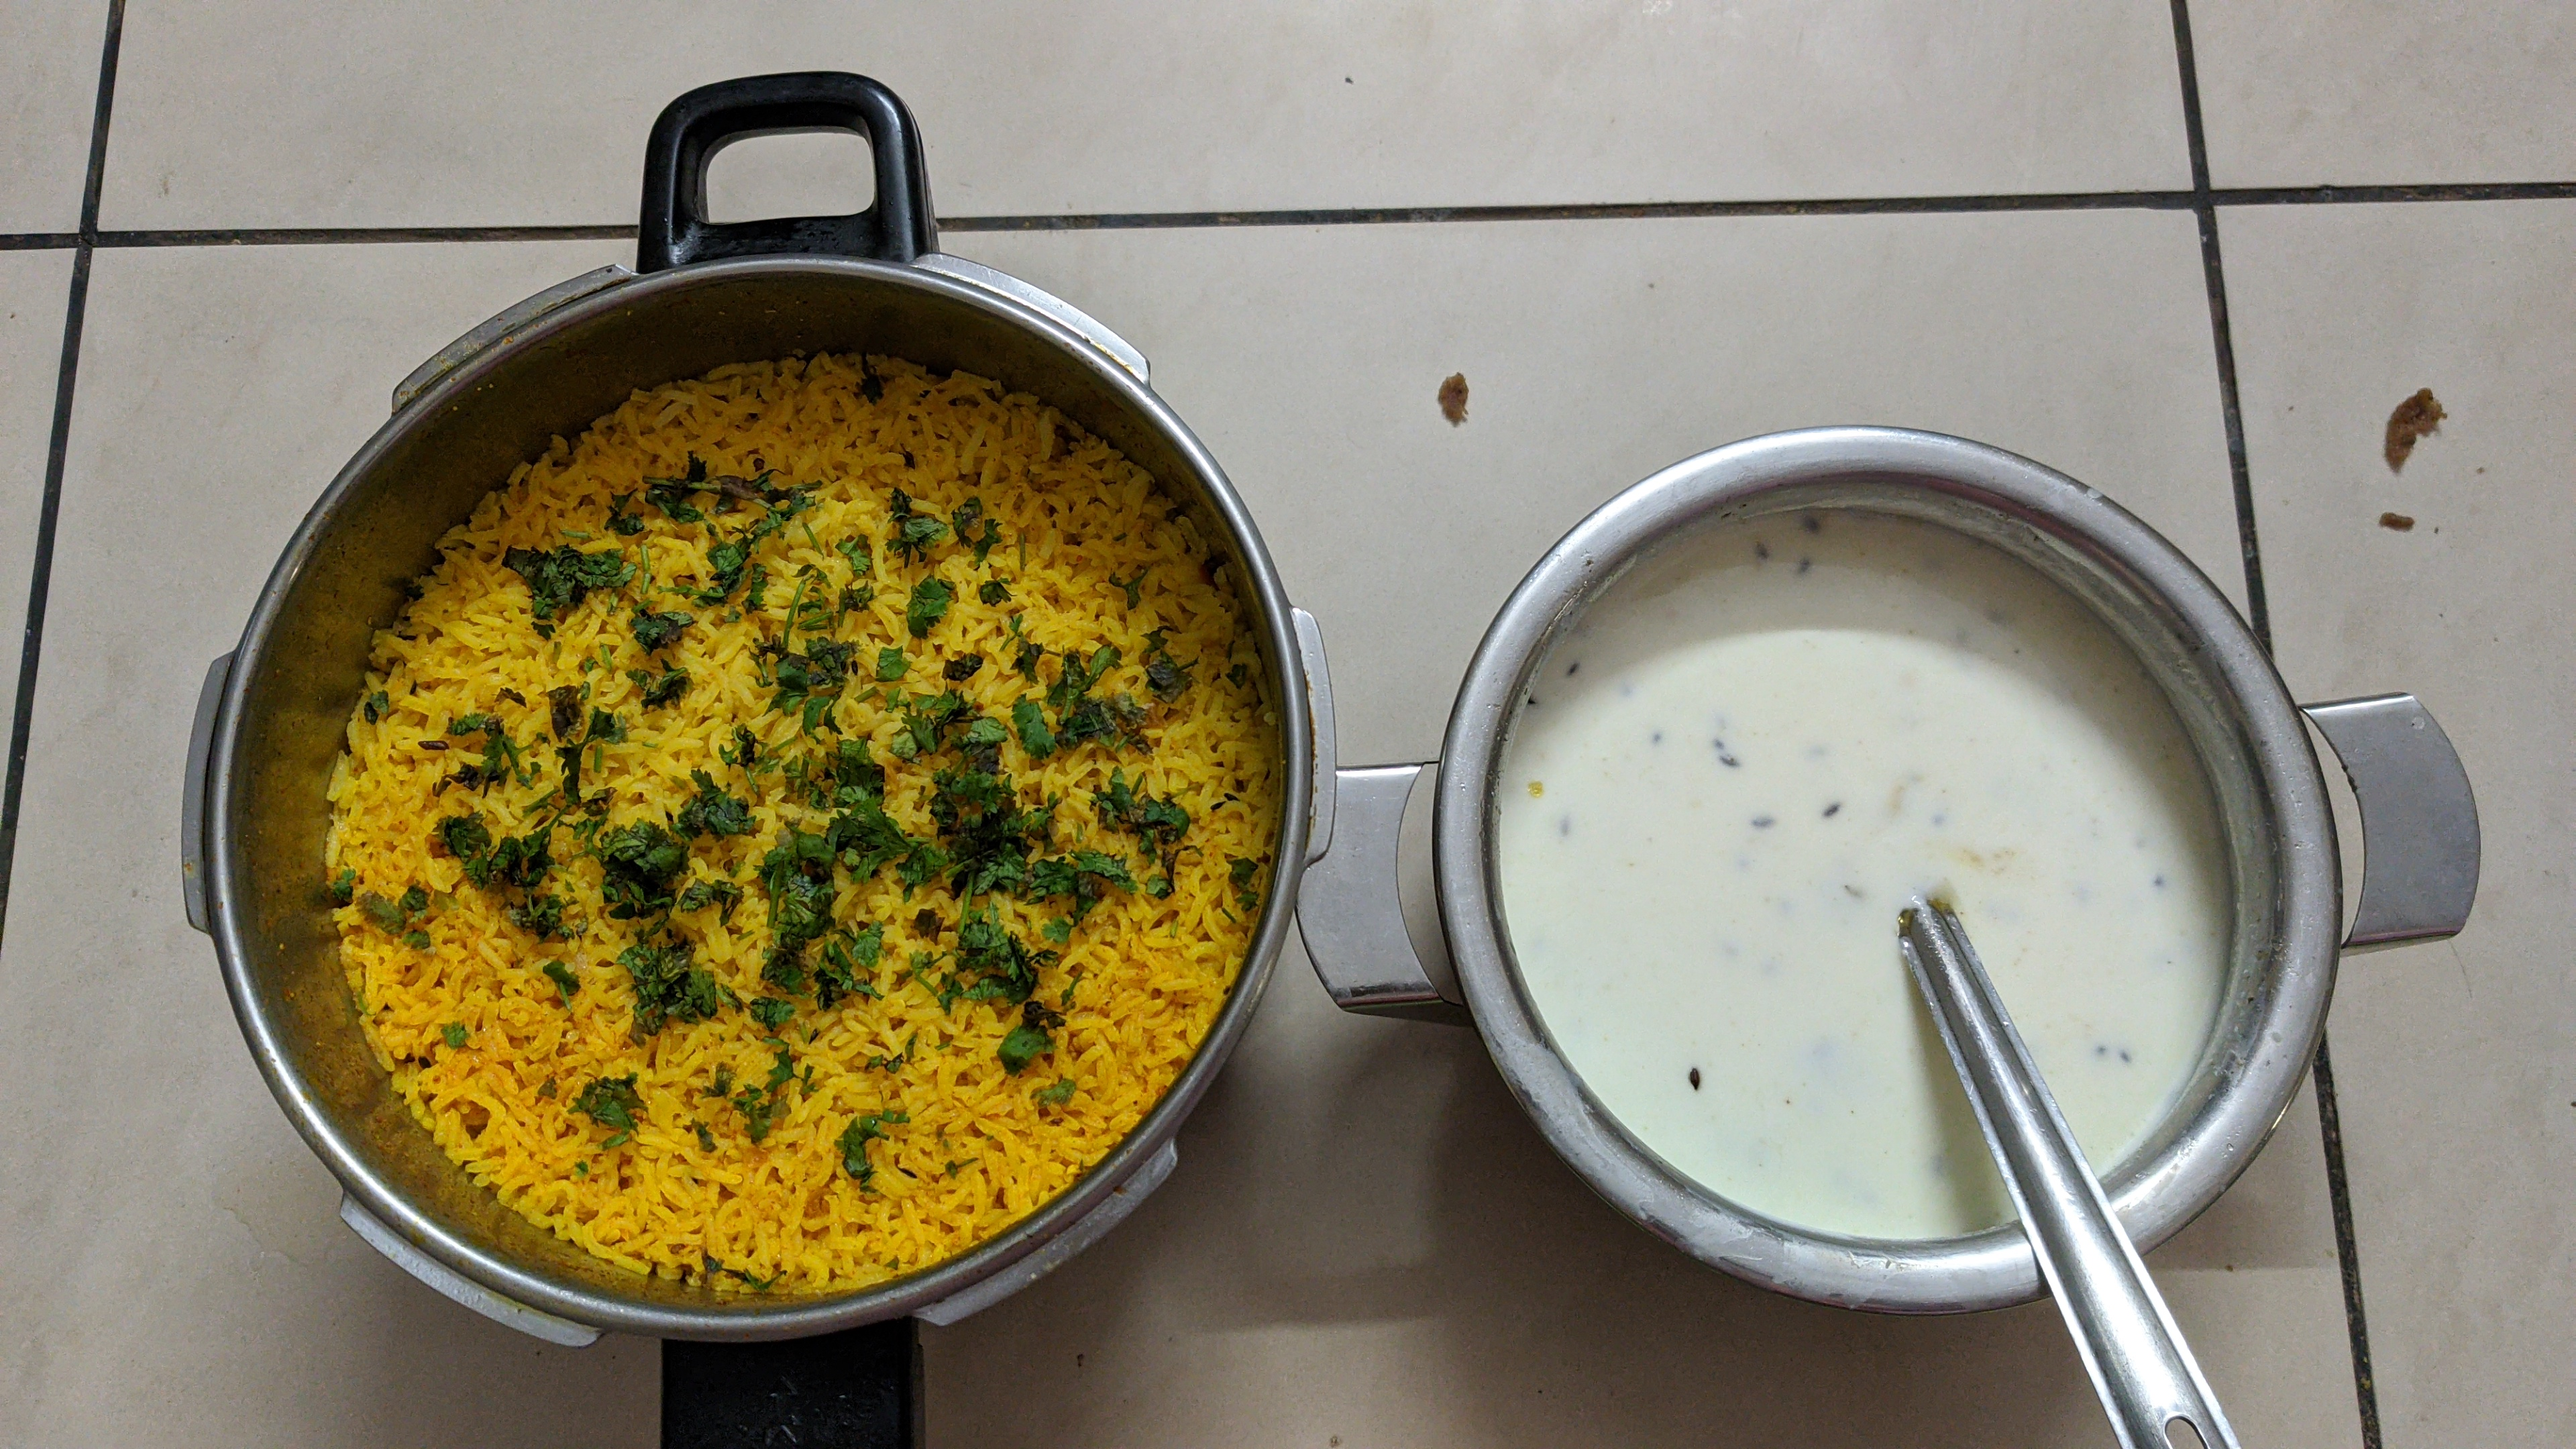food: (313, 338, 1292, 1304), (1476, 495, 2245, 1254)
